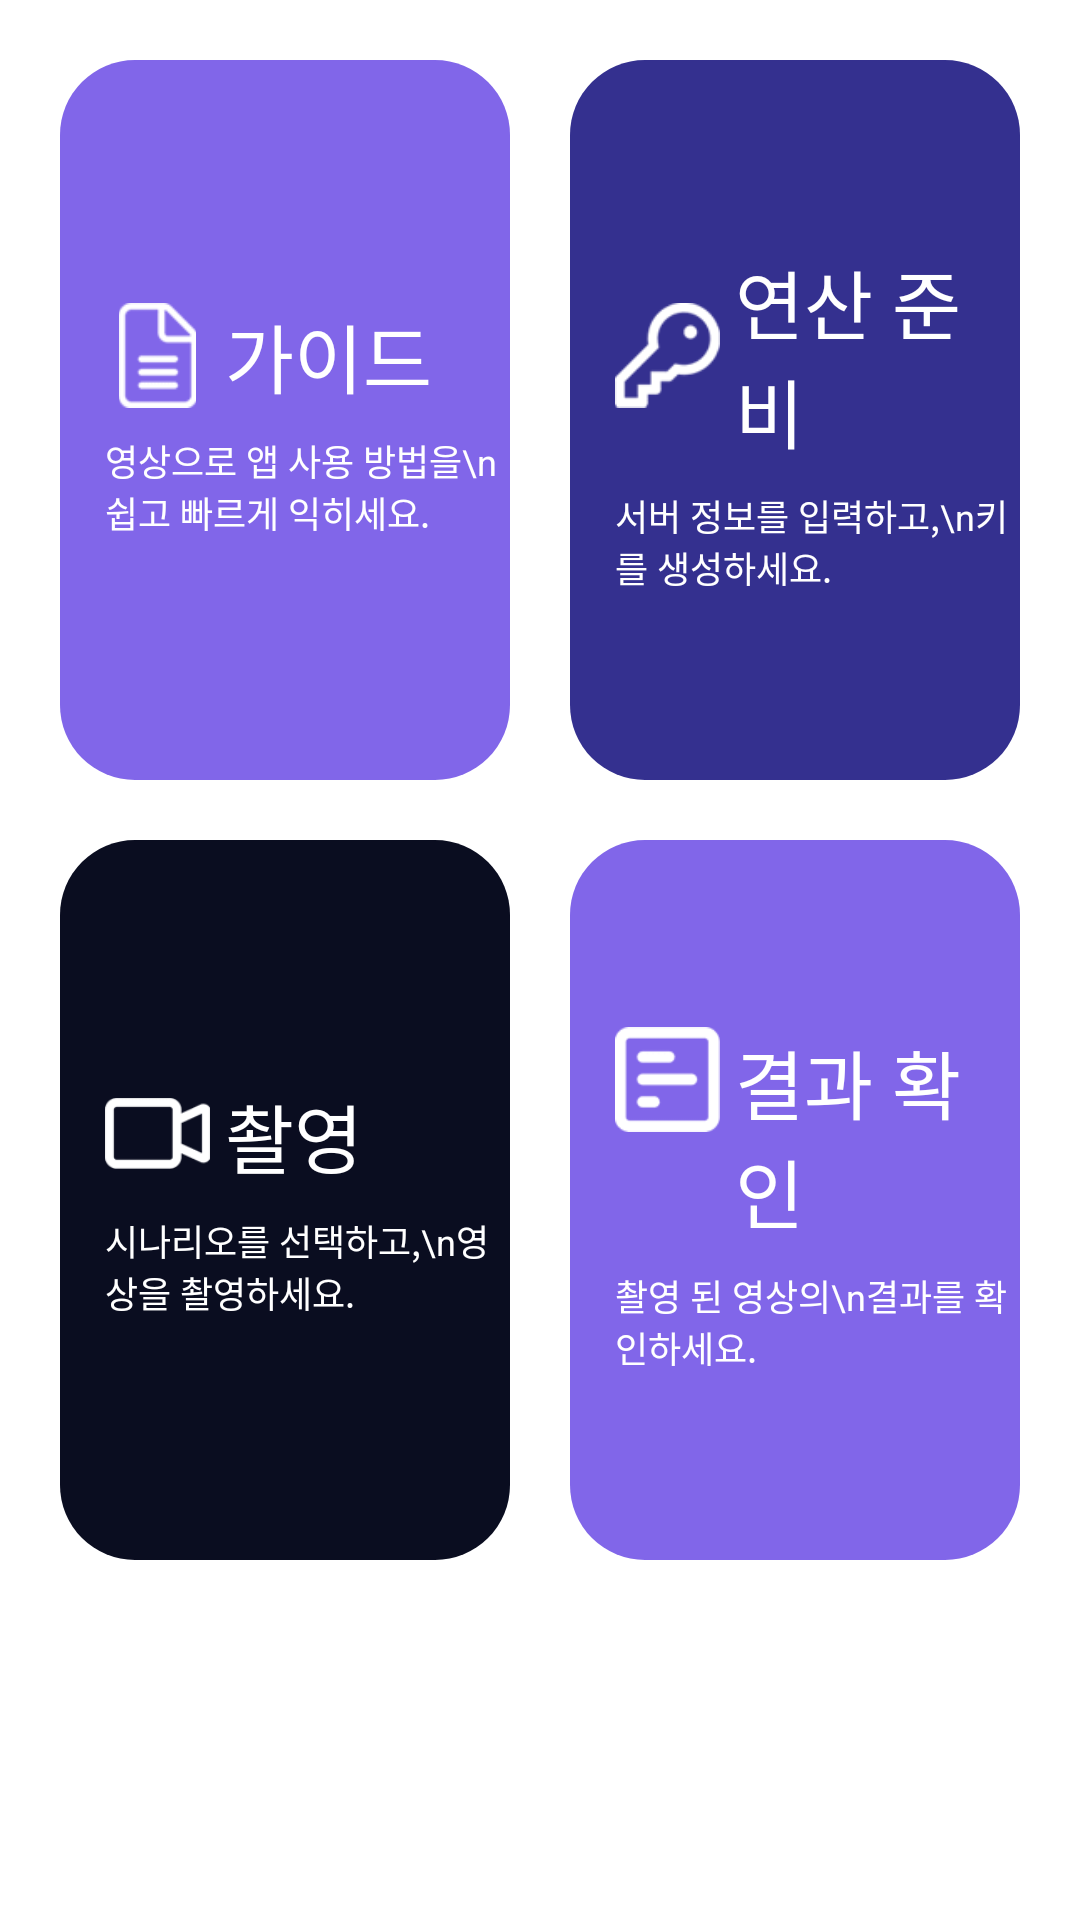

Where to tap for icons on this 1080x1920 app screen, as [x,y]:
camera video: [157,1133]
guide: [157,355]
key: [667,355]
result: [667,1079]
